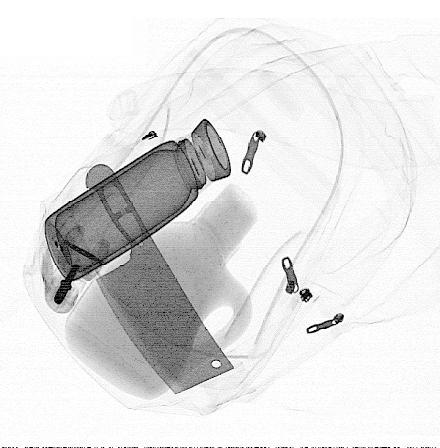Knife: (85, 163, 236, 395)
